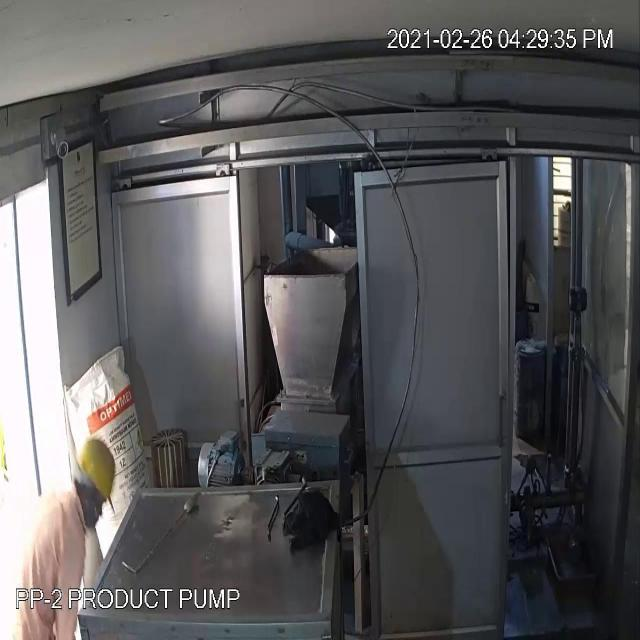hat: (74, 426, 117, 528)
